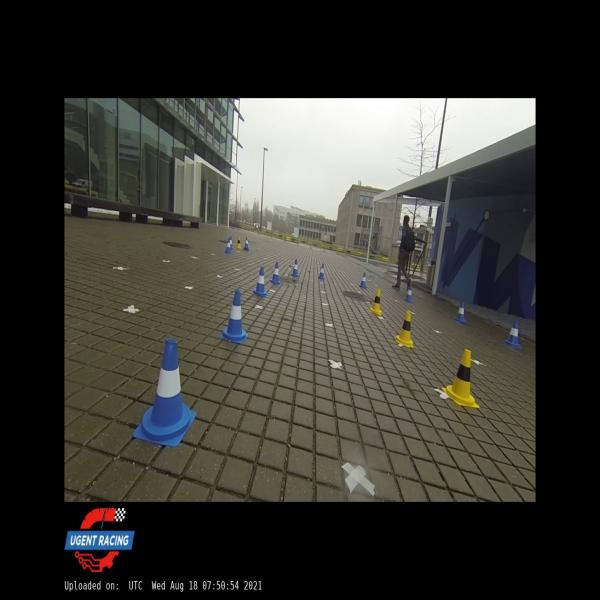blue_cone: (132, 338, 197, 446), (219, 290, 248, 344), (504, 320, 520, 348), (253, 267, 267, 297), (454, 302, 468, 324), (271, 262, 280, 285), (404, 286, 413, 302), (318, 262, 325, 279), (292, 260, 299, 276), (224, 239, 232, 253), (360, 273, 367, 287), (244, 236, 249, 250)
yellow_cone: (442, 349, 479, 408), (394, 310, 414, 348), (369, 289, 382, 316), (235, 236, 242, 250)
